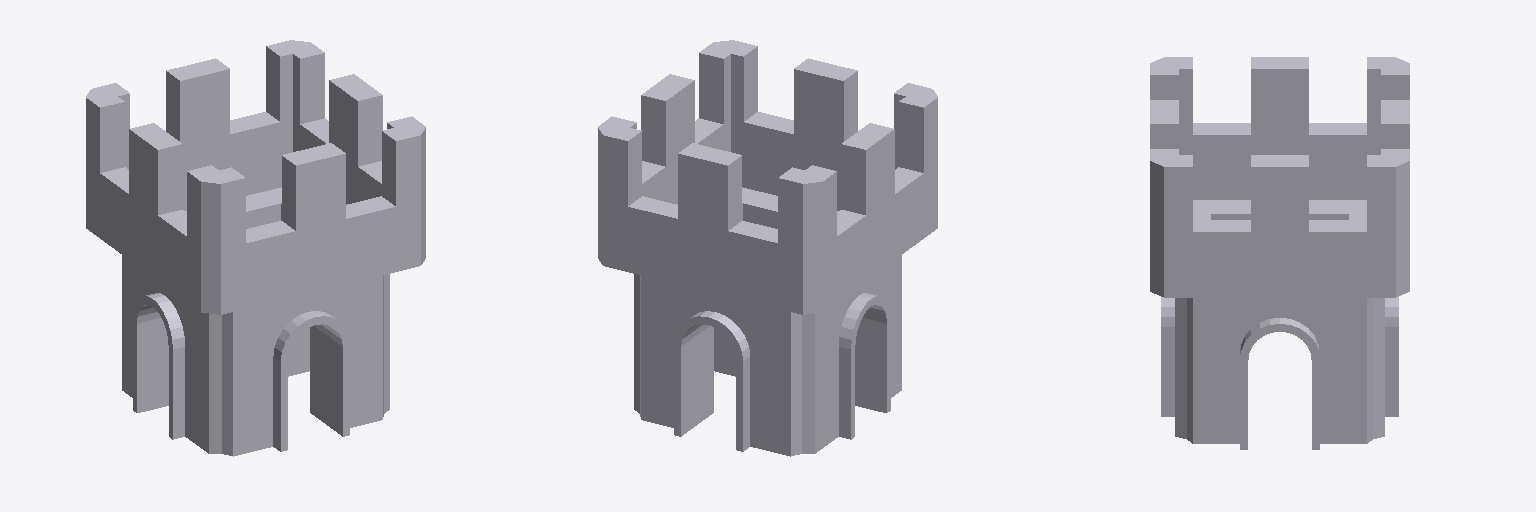
File: rook-tiny-bricks.obj
3 renders of one model, left to right at view 1: azimuth 30°, elevation 25°; view 2: azimuth 150°, elevation 25°; view 3: azimuth 270°, elevation 25°, orthographic.
Visible parts, largest first — view 1: battlement_corner_6, battlement_corner_7, wall_doorwayRound_2, wall_doorwayRound_1, wall_doorwayRound_0, wall_doorwayRound_3; view 2: battlement_corner_7, battlement_corner_6, wall_doorwayRound_3, wall_doorwayRound_1, wall_doorwayRound_0, wall_doorwayRound_2; view 3: battlement_corner_6, wall_doorwayRound_0, battlement_corner_7, wall_doorwayRound_2, wall_doorwayRound_3, wall_doorwayRound_1.
Boxes of the visible parts, x1=… form: battlement_corner_6: x1=201, y1=40, x2=425, y2=314; battlement_corner_7: x1=86, y1=40, x2=307, y2=311; wall_doorwayRound_2: x1=222, y1=275, x2=383, y2=456; wall_doorwayRound_1: x1=122, y1=255, x2=221, y2=453; wall_doorwayRound_0: x1=272, y1=190, x2=389, y2=413; wall_doorwayRound_3: x1=186, y1=187, x2=281, y2=228; battlement_corner_7: x1=600, y1=89, x2=937, y2=314; battlement_corner_6: x1=598, y1=40, x2=937, y2=264; wall_doorwayRound_3: x1=640, y1=275, x2=801, y2=456; wall_doorwayRound_1: x1=802, y1=255, x2=901, y2=453; wall_doorwayRound_0: x1=634, y1=190, x2=751, y2=413; wall_doorwayRound_2: x1=742, y1=187, x2=837, y2=228; battlement_corner_6: x1=1150, y1=57, x2=1409, y2=297; wall_doorwayRound_0: x1=1187, y1=298, x2=1372, y2=449; battlement_corner_7: x1=1152, y1=57, x2=1409, y2=199; wall_doorwayRound_2: x1=1161, y1=209, x2=1210, y2=438; wall_doorwayRound_3: x1=1349, y1=211, x2=1398, y2=438; wall_doorwayRound_1: x1=1193, y1=200, x2=1366, y2=219.
Size of the model in its own units: 0.9 by 1.1 by 0.9.